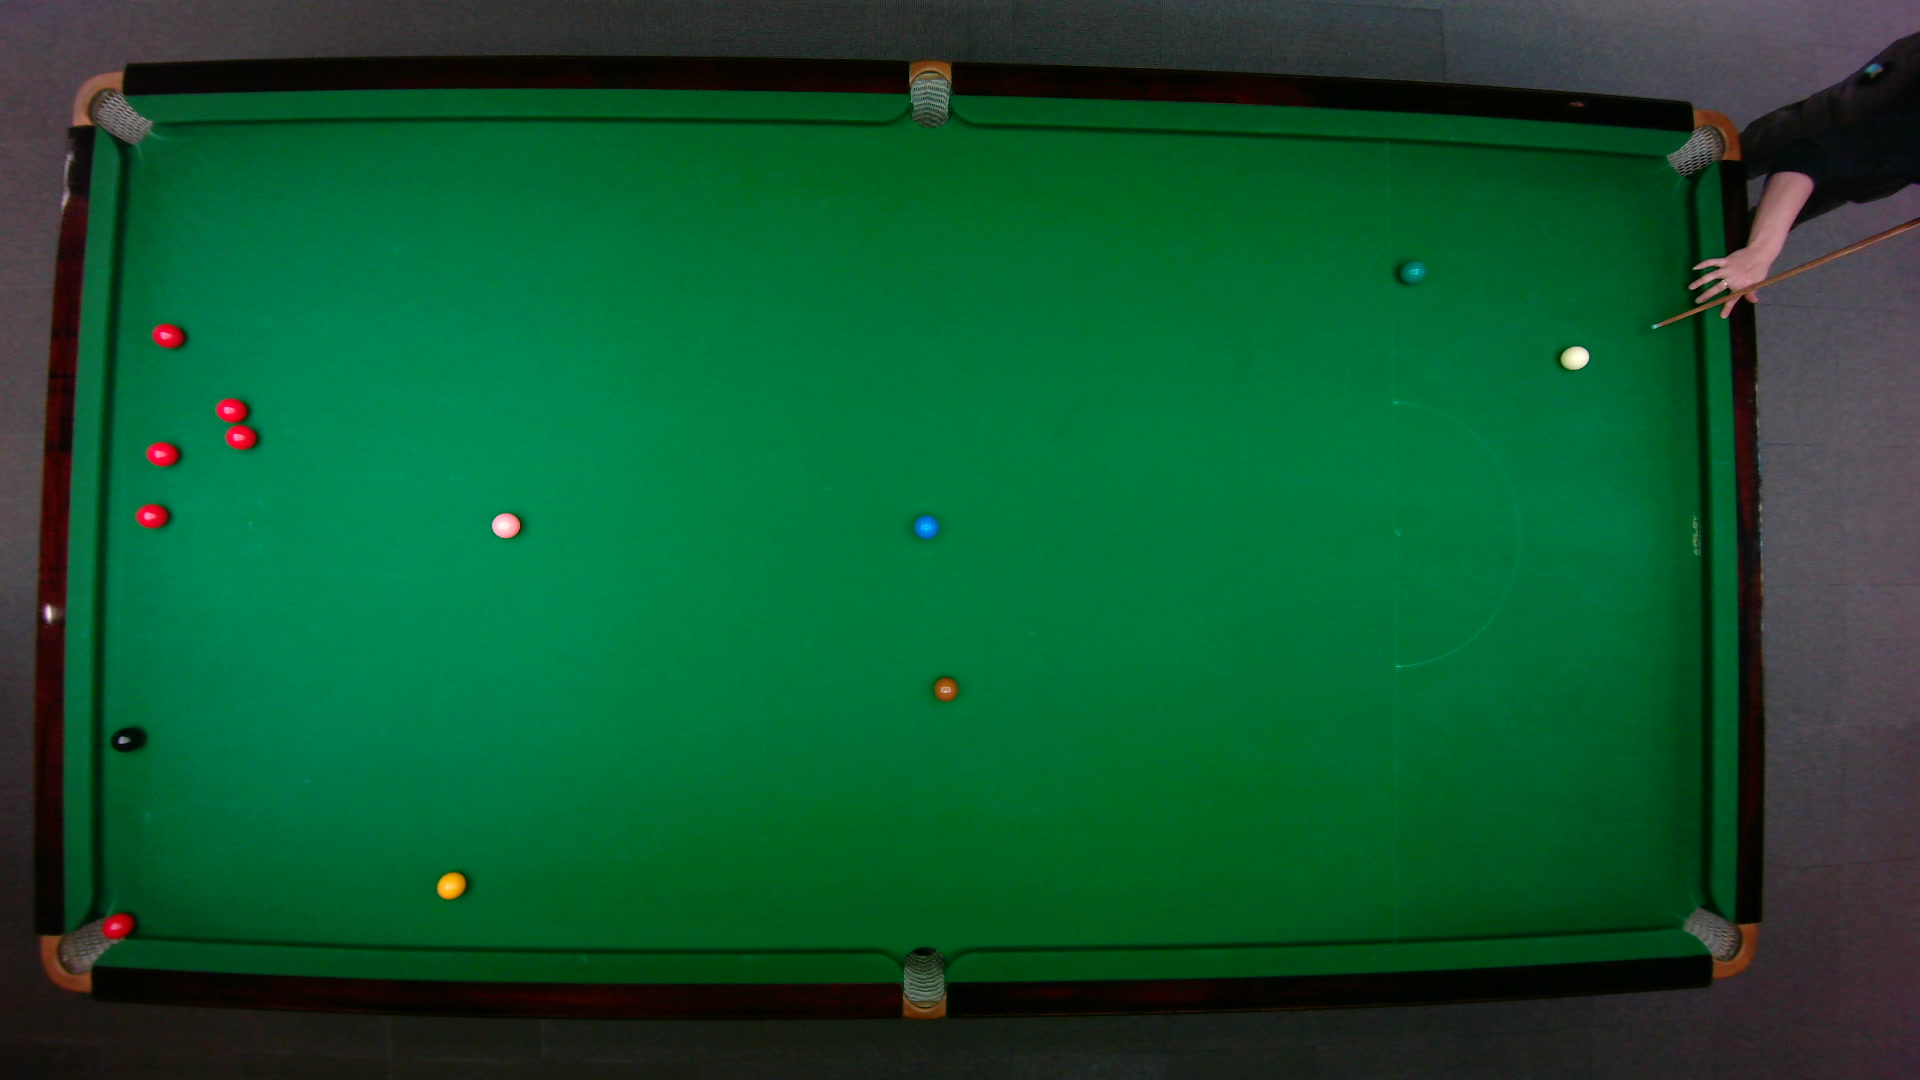bag: (40, 915, 127, 994), (71, 70, 153, 146), (1681, 906, 1759, 980), (1665, 108, 1741, 179), (903, 945, 945, 1021), (909, 59, 952, 129)
black: (109, 727, 141, 753)
blue: (913, 516, 940, 541)
brown: (934, 676, 959, 703)
cue: (1650, 216, 1920, 331)
green: (1399, 260, 1428, 285)
pink: (491, 512, 522, 541)
red: (100, 913, 136, 940), (215, 397, 249, 425), (146, 440, 179, 468), (135, 502, 169, 529), (152, 323, 185, 349), (225, 425, 258, 451)
white: (1559, 345, 1592, 371)
yellow: (436, 872, 468, 901)
zone: (1393, 400, 1522, 669)
